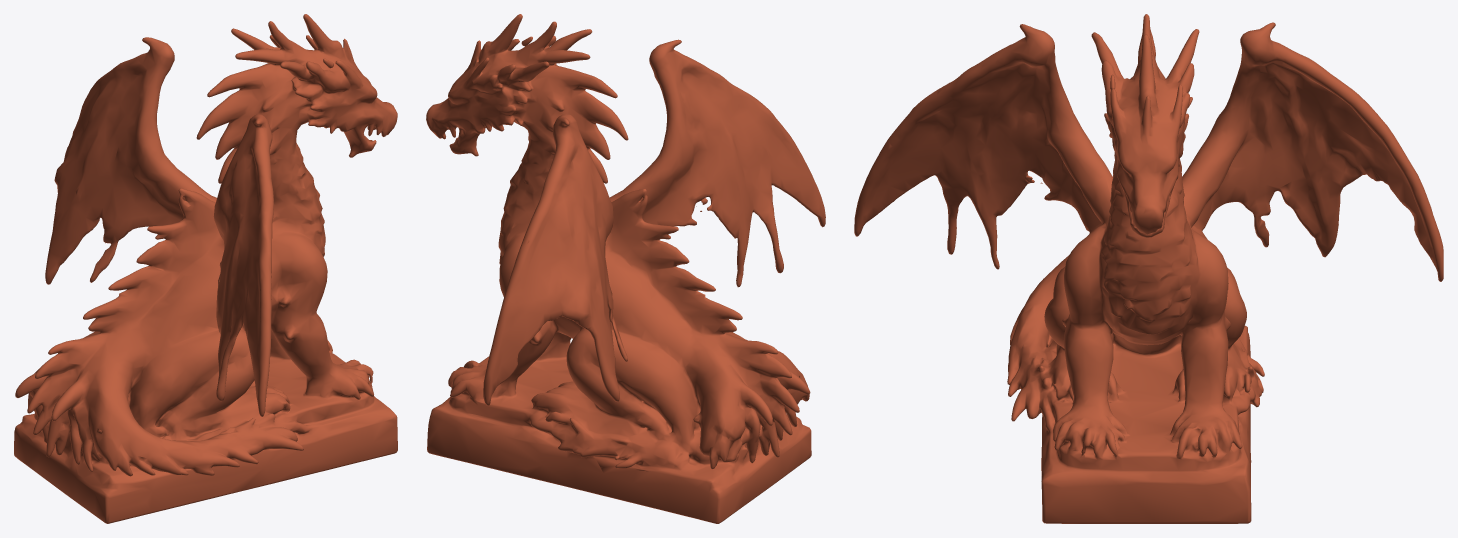
The model's file is dragon.glb.
The picture shows the model from 3 angles, left to right: view 1: azimuth 30°, elevation 25°; view 2: azimuth 150°, elevation 25°; view 3: azimuth 270°, elevation 25°; orthographic projection. The views are drawn at different scales.
Visible parts, largest first — view 1: dragon - original generated mesh; view 2: dragon - original generated mesh; view 3: dragon - original generated mesh.
Part boxes in pixels (x1,y1,x2,y2): dragon - original generated mesh: (14, 14, 397, 523); dragon - original generated mesh: (426, 14, 825, 523); dragon - original generated mesh: (854, 14, 1443, 523).
Size of the model in its own units: 3.67 by 4 by 4.57.
